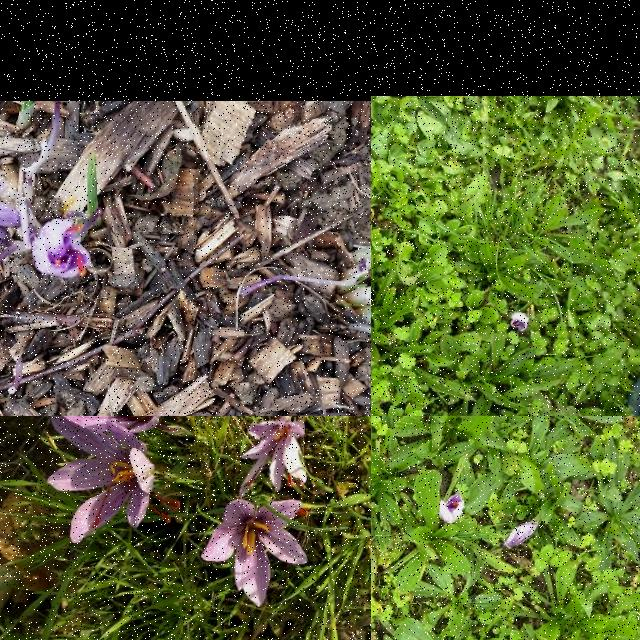flower: (48, 416, 180, 543), (201, 499, 309, 606), (240, 418, 308, 494), (32, 218, 92, 278), (505, 522, 539, 550), (439, 494, 465, 524), (0, 201, 21, 229), (511, 313, 529, 332)
